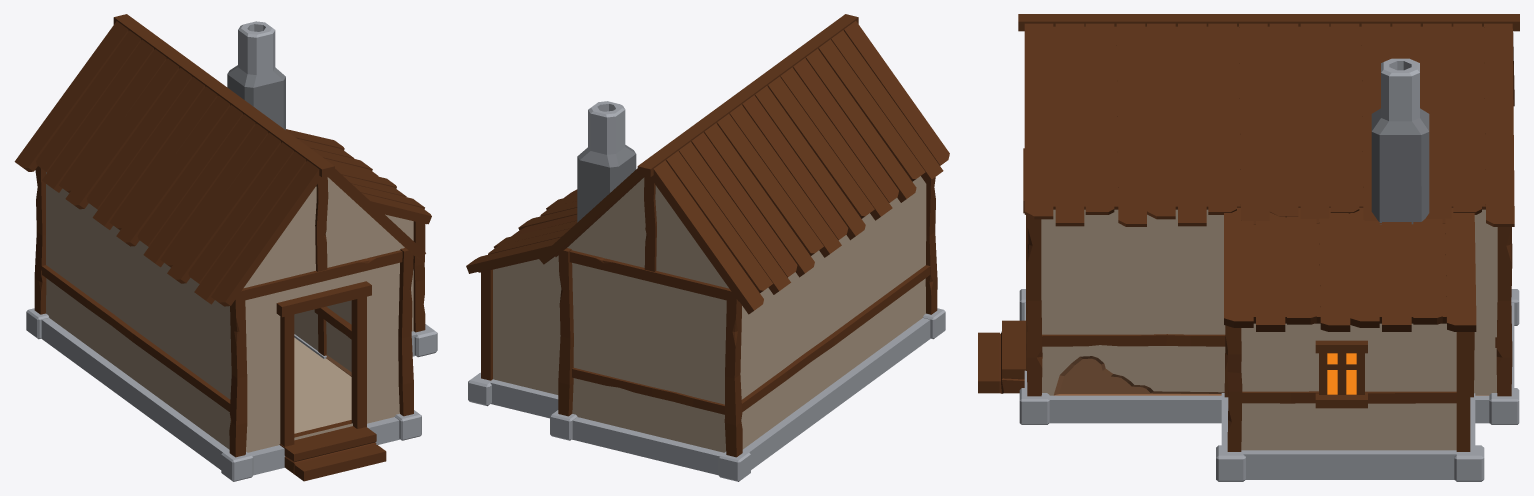
Rendered from cabinreal.fbx.
3 views of the same model, side by side, from view 1: azimuth 30°, elevation 25°; view 2: azimuth 150°, elevation 25°; view 3: azimuth 270°, elevation 25° (orthographic). The views are drawn at different scales.
Visible parts, largest first — view 1: Cube, Cube.008, Cube.006, Cube.002, Cube.012, Cube.003, Cube.014, Cube.004, Cube.053, Cube.010, Cube.009, Cube.011 (+4 smaller); view 2: Cube, Cube.008, Cube.044, Cube.006, Cube.012, Cube.003, Cube.014, Cube.004, Cube.053, Cube.054, Cube.007, Cube.015; view 3: Cube.008, Cube, Cube.044, Cube.014, Cube.003, Cube.012, Cube.006, Cube.045, Cube.002, Cube.049, Cube.046, Cube.051 (+3 smaller).
Part boxes in pixels (<box>): Cube: <box>41,172,404,475</box>; Cube.008: <box>14,21,425,306</box>; Cube.006: <box>26,166,421,481</box>; Cube.002: <box>279,420,386,481</box>; Cube.012: <box>227,21,285,129</box>; Cube.003: <box>37,14,416,289</box>; Cube.014: <box>286,129,431,224</box>; Cube.004: <box>243,176,402,300</box>; Cube.053: <box>41,265,230,411</box>; Cube.010: <box>351,296,366,428</box>; Cube.009: <box>280,314,294,446</box>; Cube.011: <box>276,281,371,317</box>; Cube: <box>567,176,930,475</box>; Cube.008: <box>538,21,949,314</box>; Cube.044: <box>490,255,561,418</box>; Cube.006: <box>550,177,945,481</box>; Cube.012: <box>577,101,636,222</box>; Cube.003: <box>554,14,858,301</box>; Cube.014: <box>466,189,577,273</box>; Cube.004: <box>569,176,728,300</box>; Cube.053: <box>741,265,930,411</box>; Cube.054: <box>572,368,724,414</box>; Cube.007: <box>481,269,492,380</box>; Cube.015: <box>468,372,493,406</box>; Cube.008: <box>1024,23,1514,226</box>; Cube: <box>1024,209,1514,423</box>; Cube.044: <box>1221,323,1475,479</box>; Cube.014: <box>1224,207,1476,331</box>; Cube.003: <box>1018,14,1519,209</box>; Cube.012: <box>1371,58,1429,224</box>; Cube.006: <box>1019,216,1519,424</box>; Cube.045: <box>1315,340,1367,408</box>; Cube.002: <box>978,320,1025,393</box>; Cube.049: <box>1042,334,1225,346</box>; Cube.046: <box>1253,213,1446,323</box>; Cube.051: <box>1242,391,1456,403</box>.
Size of the model in its own units: 522 by 484 by 668.
